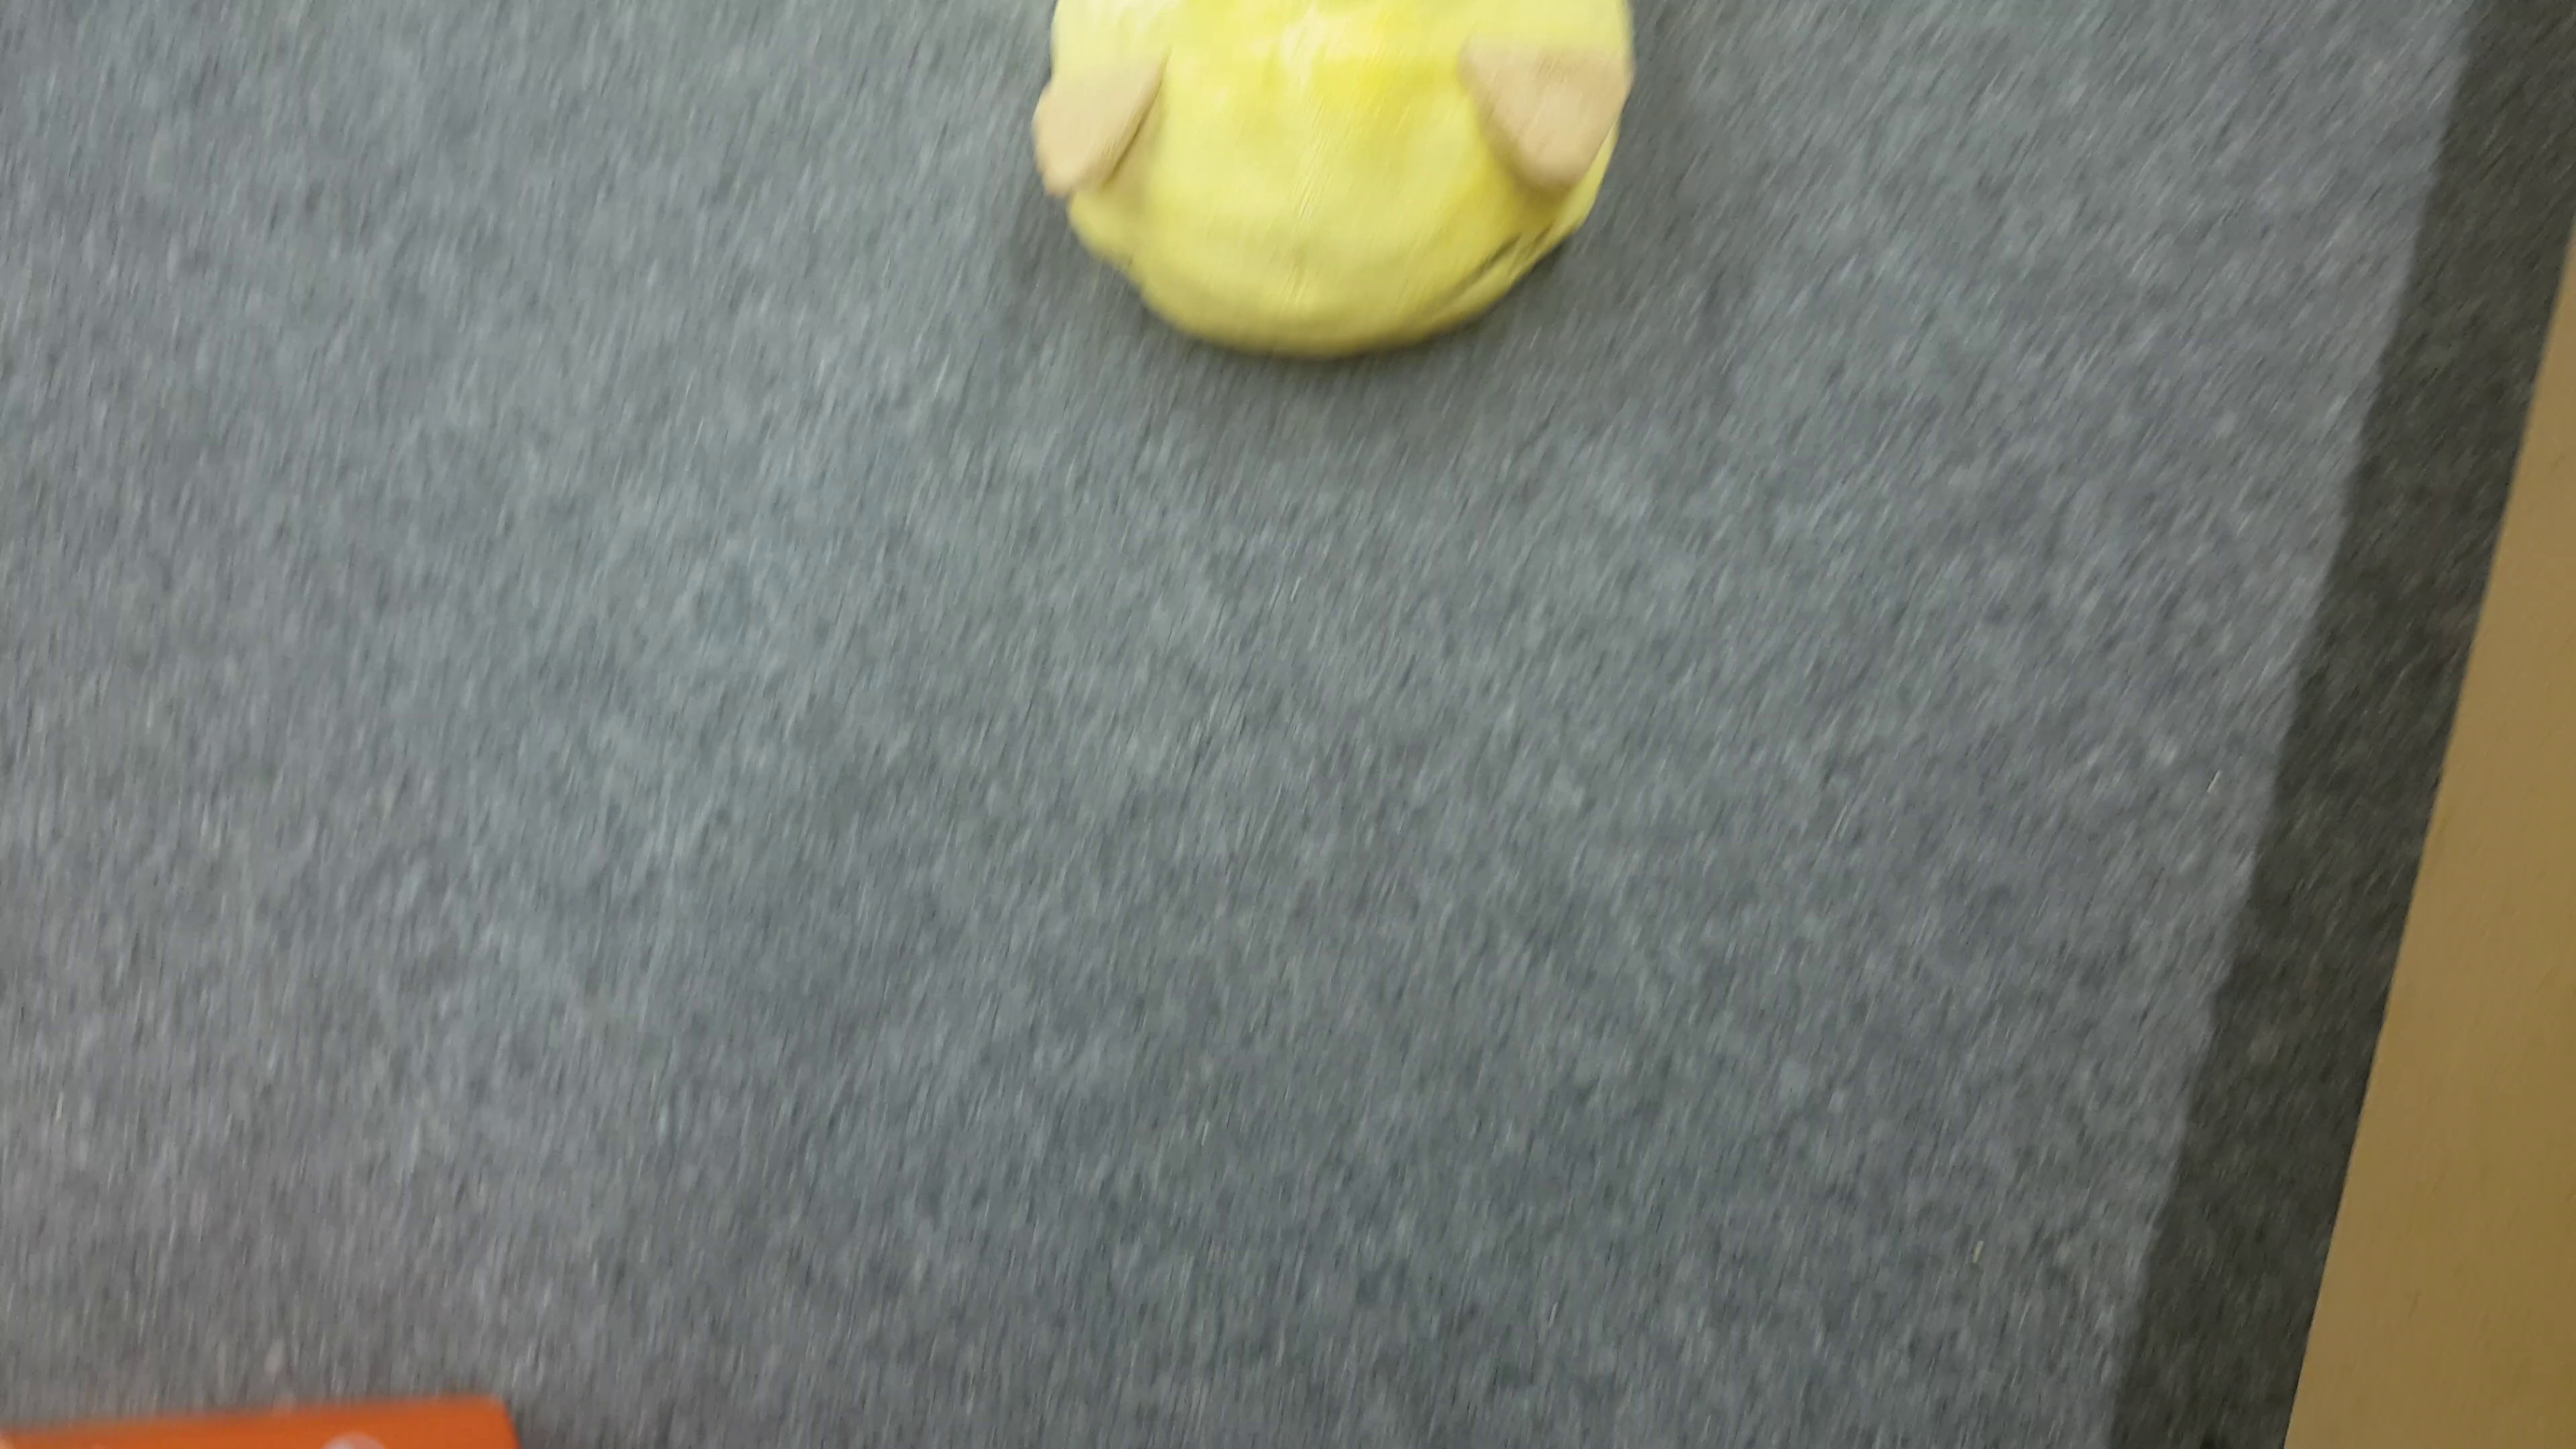grasp: (1046, 2, 1638, 356)
